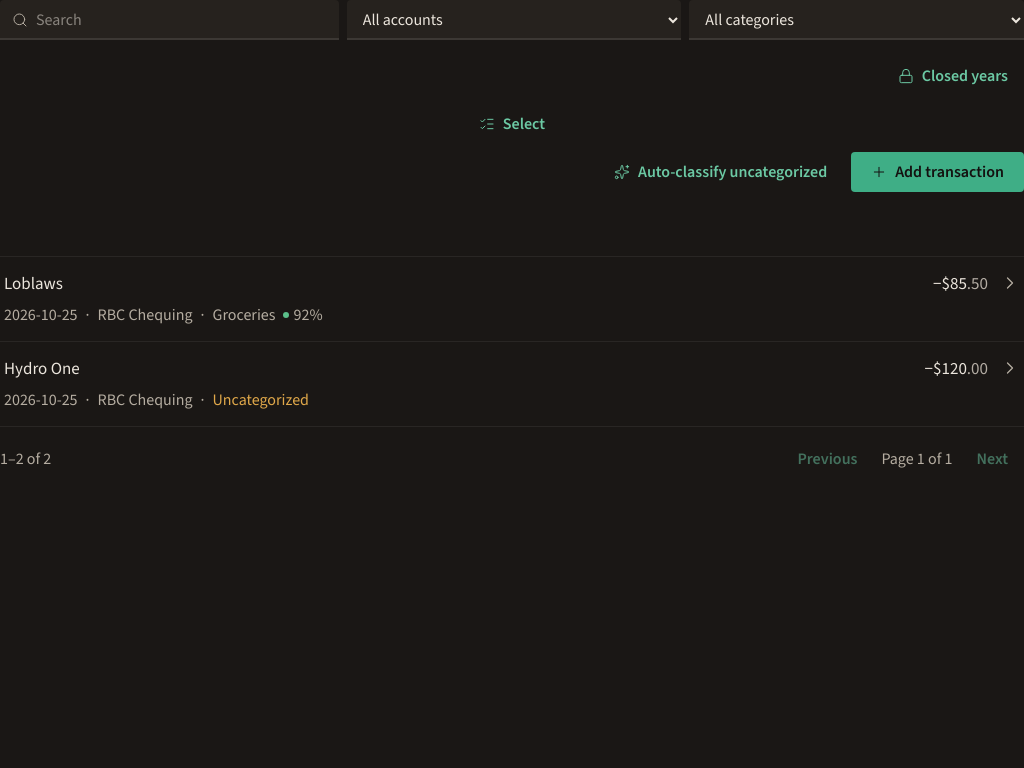
Test: LedgerWorkspace loading and layout › keeps phone rows read-only and moves Edit, Split and category into a sheet
Later steps or results of the test are not shown.
Expected: the button "Edit transaction" is not shown
Expected: the button "Split" is not shown
Click the button with aria-label "Hydro One, details and actions" at [42, 368], box [0,342,1023,426]
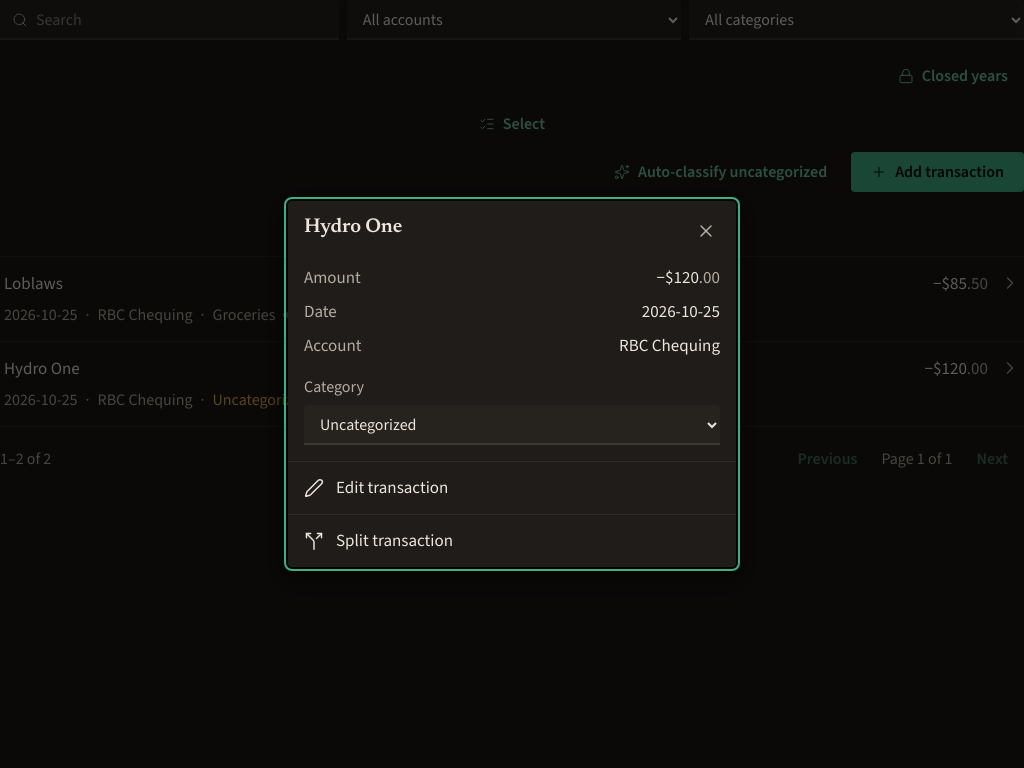
Result: the dialog "Hydro One" shows "RBC Chequing" at [619,334,720,357]
Result: the button "Edit transaction" is shown at [288,462,736,514]
Result: the button "Split transaction" is shown at [288,515,736,567]
